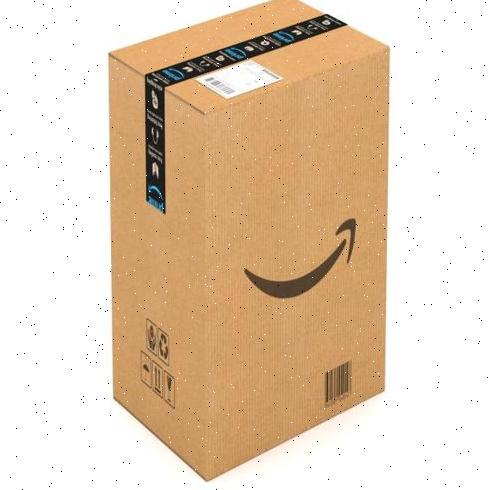Amazon: (98, 0, 390, 478)
